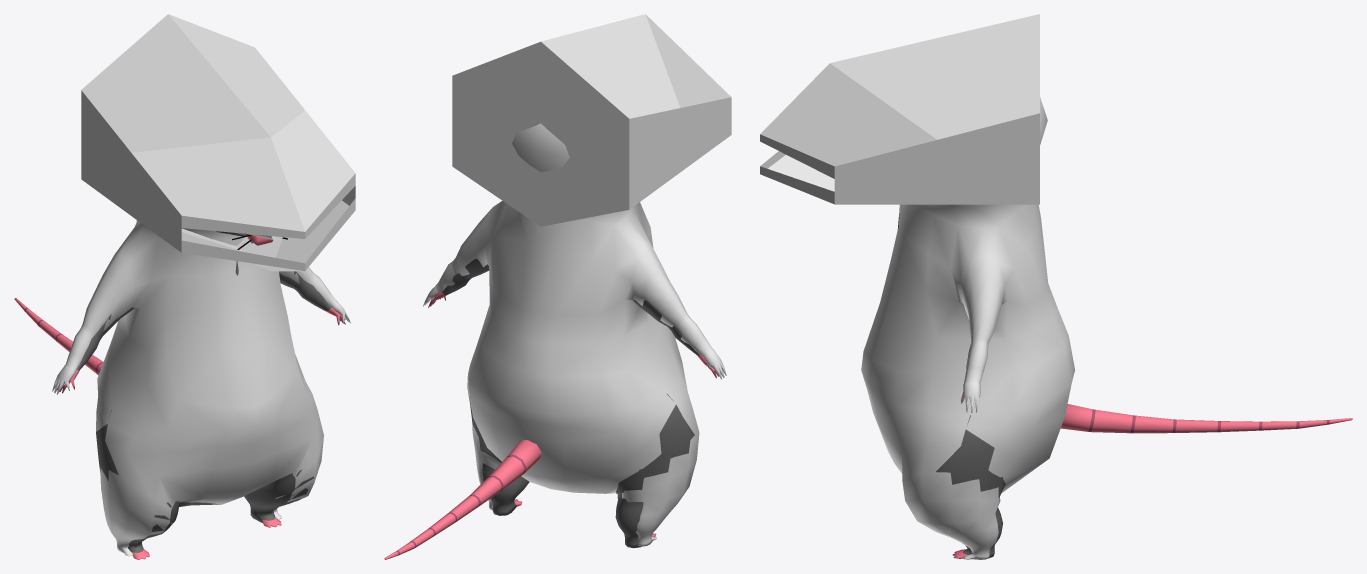
File: mouse.fbx
3 renders of one model, left to right at view 1: azimuth 30°, elevation 25°; view 2: azimuth 150°, elevation 25°; view 3: azimuth 270°, elevation 25°, orthographic. The views are drawn at different scales.
Visible parts, largest first — view 1: Cylinder.001, Cube, Cylinder; view 2: Cylinder.001, Cube, Cylinder; view 3: Cylinder.001, Cube, Cylinder.
Boxes of the visible parts, x1,y1,x2,y2 form: Cylinder.001: (52, 220, 350, 556); Cube: (81, 14, 355, 271); Cylinder: (14, 231, 345, 559); Cylinder.001: (423, 123, 726, 546); Cube: (452, 14, 731, 226); Cylinder: (384, 258, 718, 559); Cylinder.001: (861, 97, 1074, 559); Cube: (760, 14, 1039, 204); Cylinder: (897, 213, 1352, 558).
Bounding box in the file's own units: 181 × 292 × 309.
